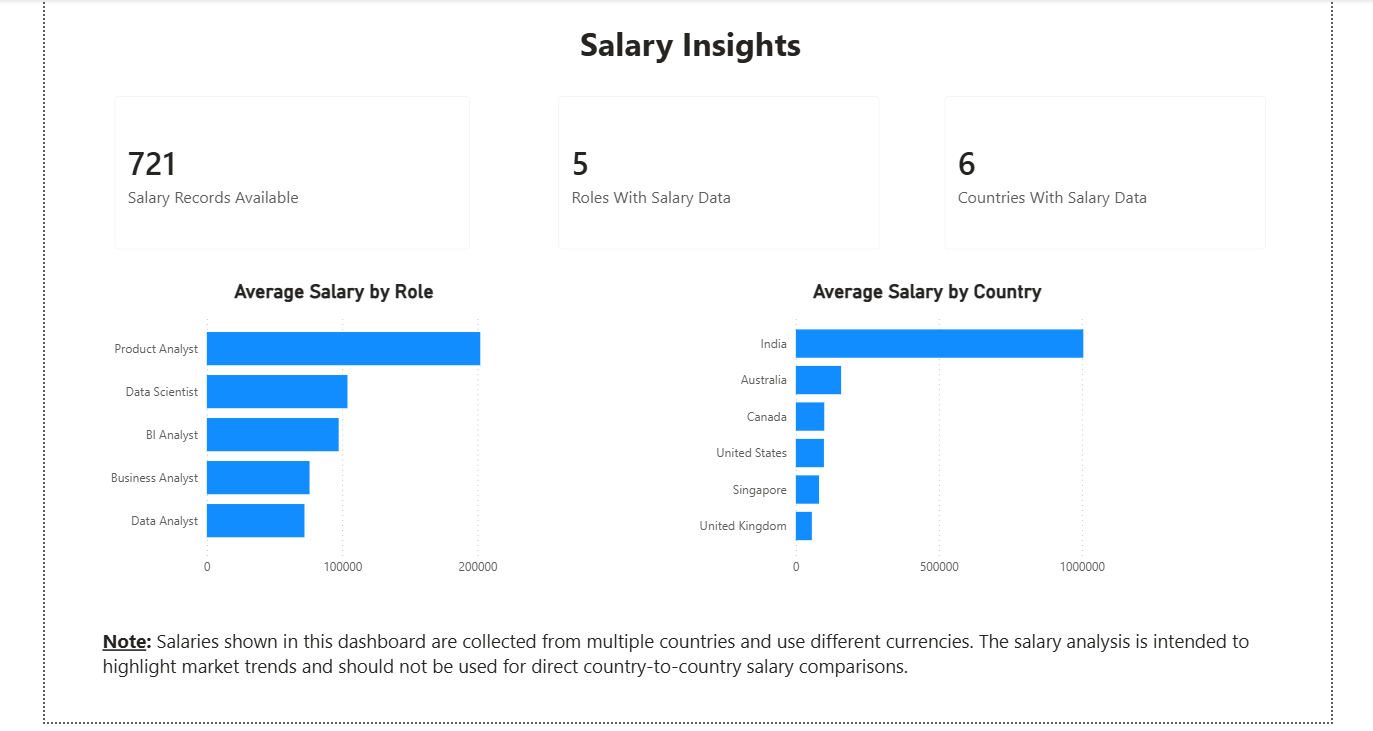

Layout of this report page (visuals, bound fields, positions):
{"tool":"powerbi","page":{"name":"Salary Insights","canvas":[1280,720],"ordinal":3},"visuals":[{"type":"cardVisual","fields":{"Data":["job_market_dashboard_dataset.Roles With Salary Data"]},"box":[494,79.6,354,188],"z":0},{"type":"cardVisual","fields":{"Data":["job_market_dashboard_dataset.Countries With Salary Data"]},"box":[878.2,79.6,354,188],"z":1000},{"type":"clusteredBarChart","title":"Average Salary by Role","fields":{"Y":["Avg(job_market_dashboard_dataset.avg_salary)"],"Category":["job_market_dashboard_dataset.role_searched"]},"box":[52.1,279.9,470.7,303.3],"z":2000},{"type":"clusteredBarChart","title":"Average Salary by Country","fields":{"Category":["job_market_dashboard_dataset.country_name"],"Y":["Avg(job_market_dashboard_dataset.avg_salary)"]},"box":[639.5,279.9,477.5,303.3],"z":3000},{"type":"textbox","box":[52.1,620.2,1181.5,82.3],"z":4000},{"type":"cardVisual","fields":{"Data":["job_market_dashboard_dataset.Salary Records Available"]},"box":[52.1,79.6,388.3,188],"z":5000},{"type":"textbox","box":[52.1,17.8,1180.1,72.7],"z":5001}]}

Visuals, with their boxes on the page's 1280x720 design canvas (x1, y1, x2, y2). These are canvas units, not pixel positions in the 1373x731 screenshot, which may show the page scaled, cropped or inside an application window:
cardVisual - job_market_dashboard_dataset.Roles With Salary Data: BBox(494, 80, 848, 268)
cardVisual - job_market_dashboard_dataset.Countries With Salary Data: BBox(878, 80, 1232, 268)
"Average Salary by Role" clusteredBarChart: BBox(52, 280, 523, 583)
"Average Salary by Country" clusteredBarChart: BBox(640, 280, 1117, 583)
textbox: BBox(52, 620, 1234, 702)
cardVisual - job_market_dashboard_dataset.Salary Records Available: BBox(52, 80, 440, 268)
textbox: BBox(52, 18, 1232, 90)
